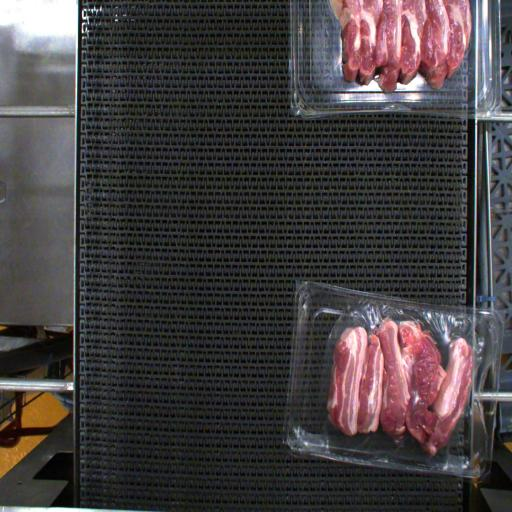unsealed: (320, 292, 496, 416)
